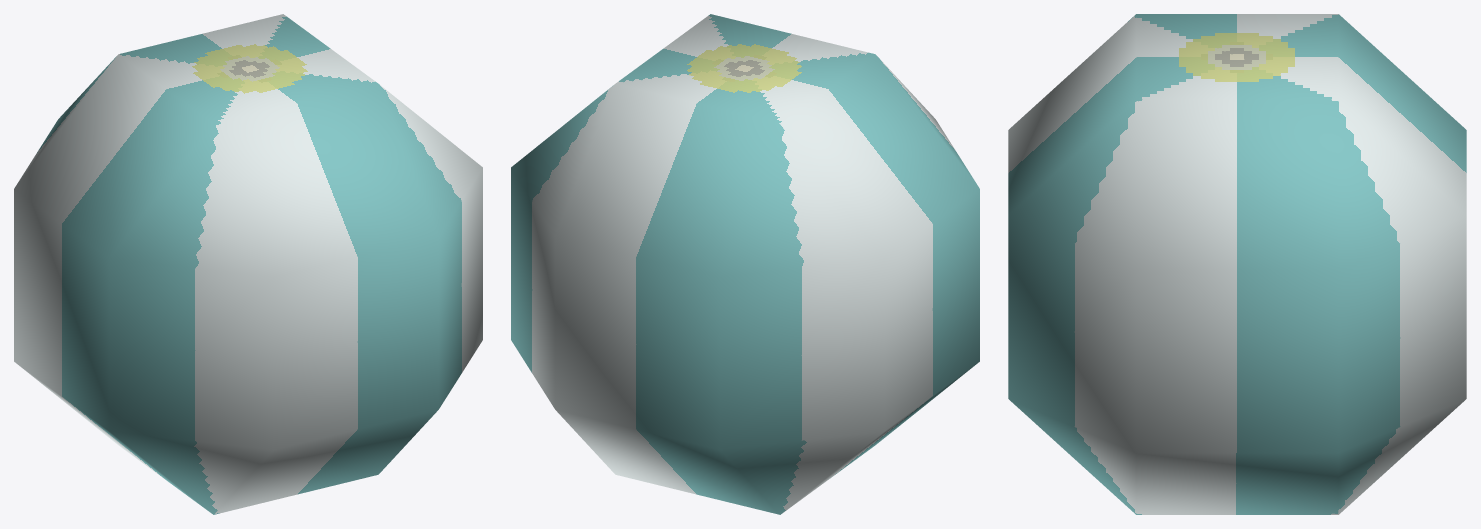
File: 01d3_Beachball.glb
The picture shows the model from 3 angles, left to right: view 1: azimuth 30°, elevation 25°; view 2: azimuth 150°, elevation 25°; view 3: azimuth 270°, elevation 25°; orthographic projection. The views are drawn at different scales.
Visible parts, largest first — view 1: part_0; view 2: part_0; view 3: part_0.
Part boxes in pixels (left/top/right/bottom): part_0: left=14, top=14, right=482, bottom=514; part_0: left=511, top=14, right=979, bottom=514; part_0: left=1008, top=14, right=1466, bottom=514.
Bounding box in the file's own units: 0.28 × 0.28 × 0.28.
1 material, 1 textured.
